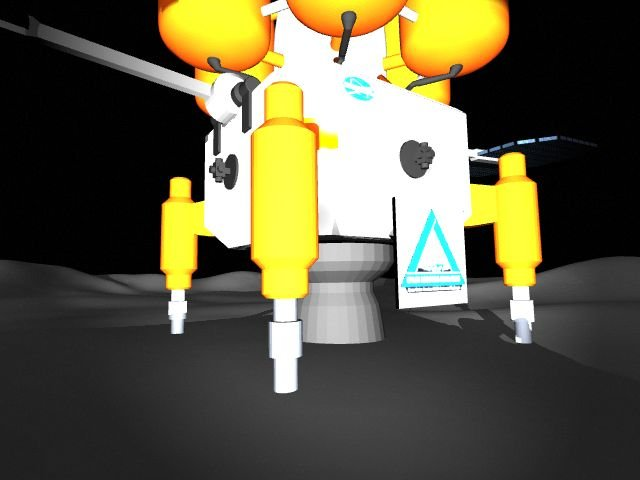basemarker: (400, 206, 467, 294)
